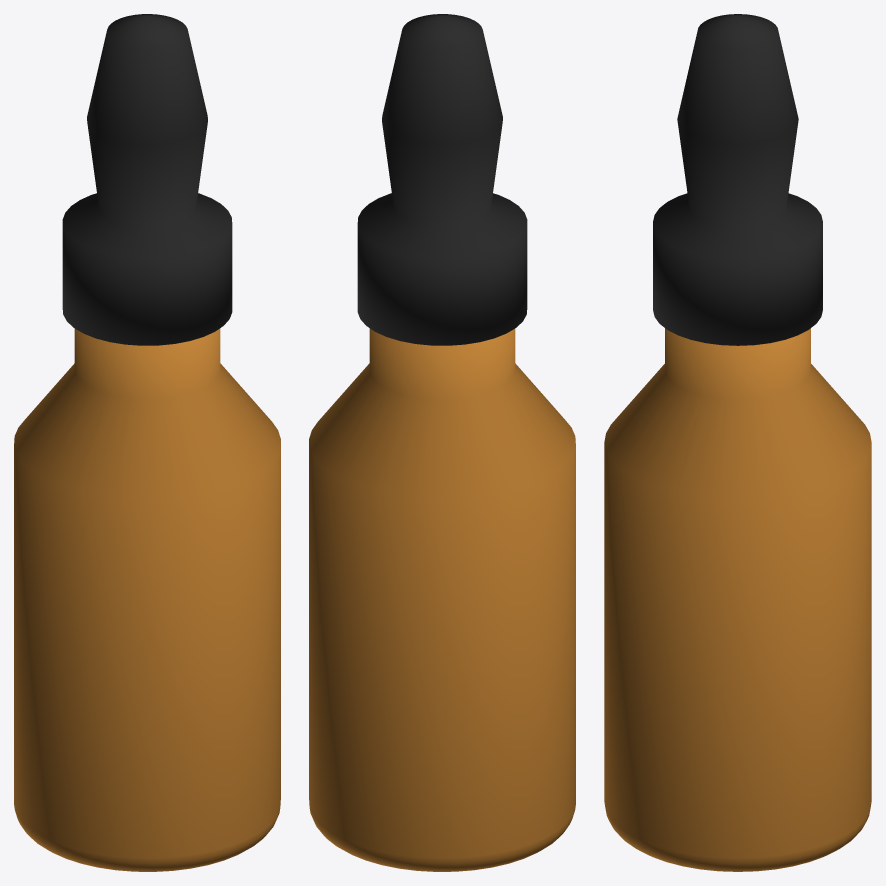
File: SM_DropperBottle_30.glb
3 views of the same model, side by side, from view 1: azimuth 30°, elevation 25°; view 2: azimuth 150°, elevation 25°; view 3: azimuth 270°, elevation 25° (orthographic).
Parts seen in each view (by area): view 1: SM_DropperBottle_30; view 2: SM_DropperBottle_30; view 3: SM_DropperBottle_30.
Part boxes in pixels (left/top/right/bottom): SM_DropperBottle_30: left=14, top=14, right=280, bottom=871; SM_DropperBottle_30: left=309, top=14, right=575, bottom=871; SM_DropperBottle_30: left=604, top=14, right=871, bottom=871.
Size of the model in its own units: 0.033 by 0.11 by 0.033.
